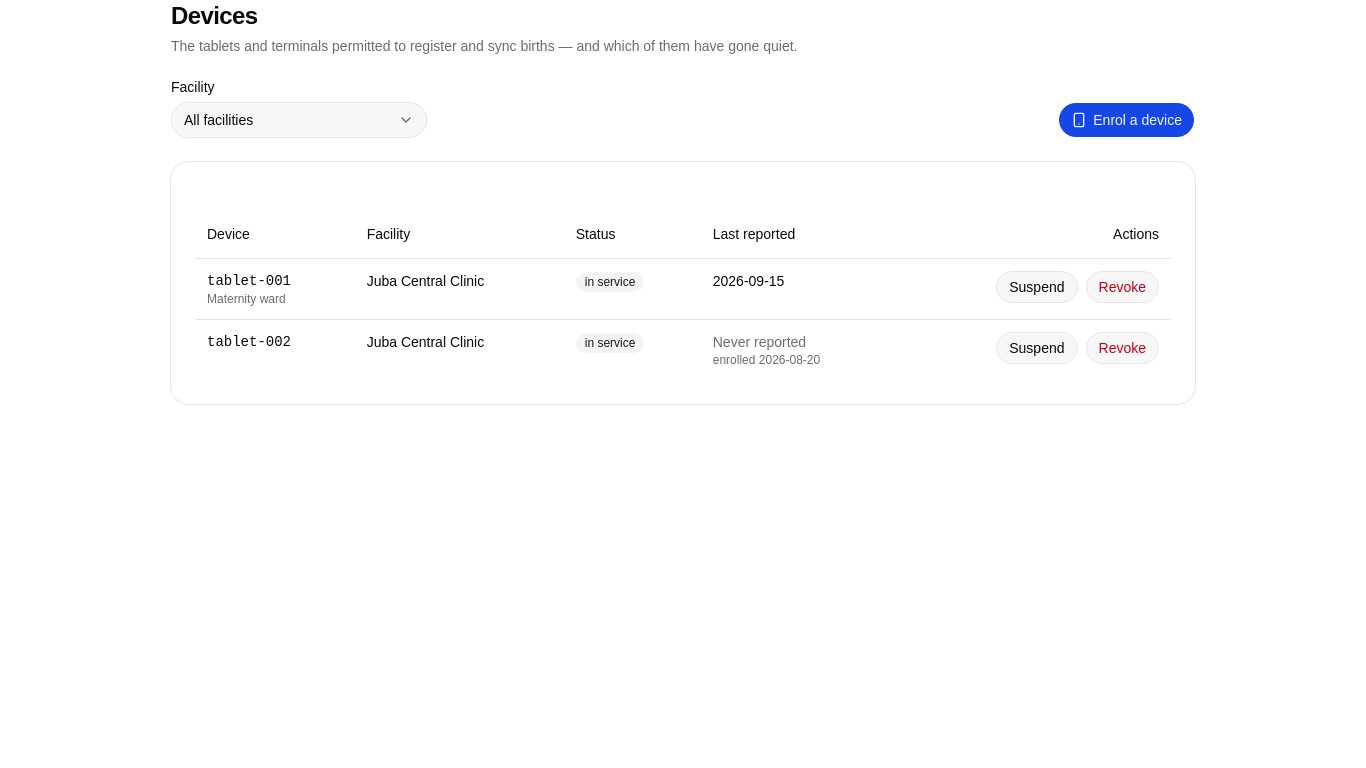
Test: DeviceList › warns that revocation cannot be undone
Expected: the text "tablet-001" is shown, [207,272,291,288]
Click the button "Revoke" in the row of "tablet-001". click: (1122, 286)
box: [1086,270,1159,302]
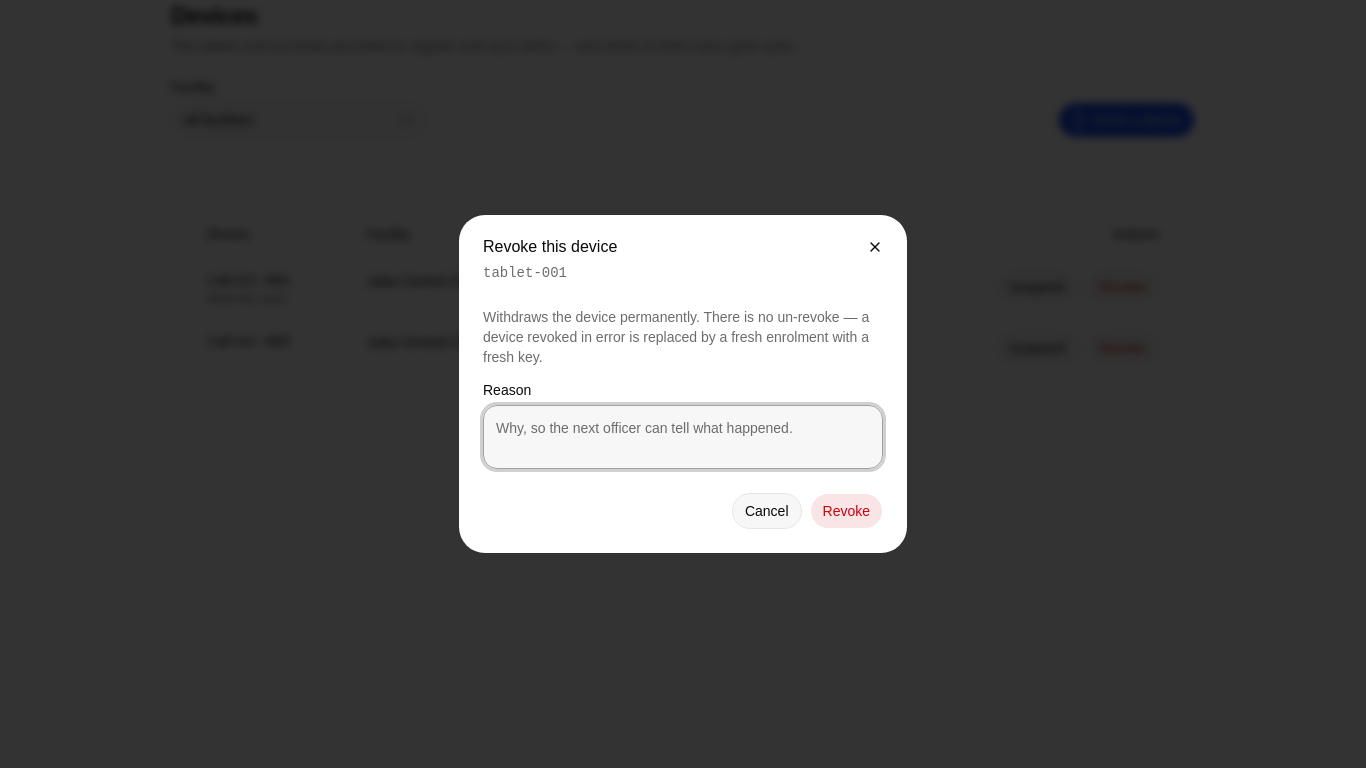
Now the text "no un-revoke" is shown, box [483,309,869,365]
